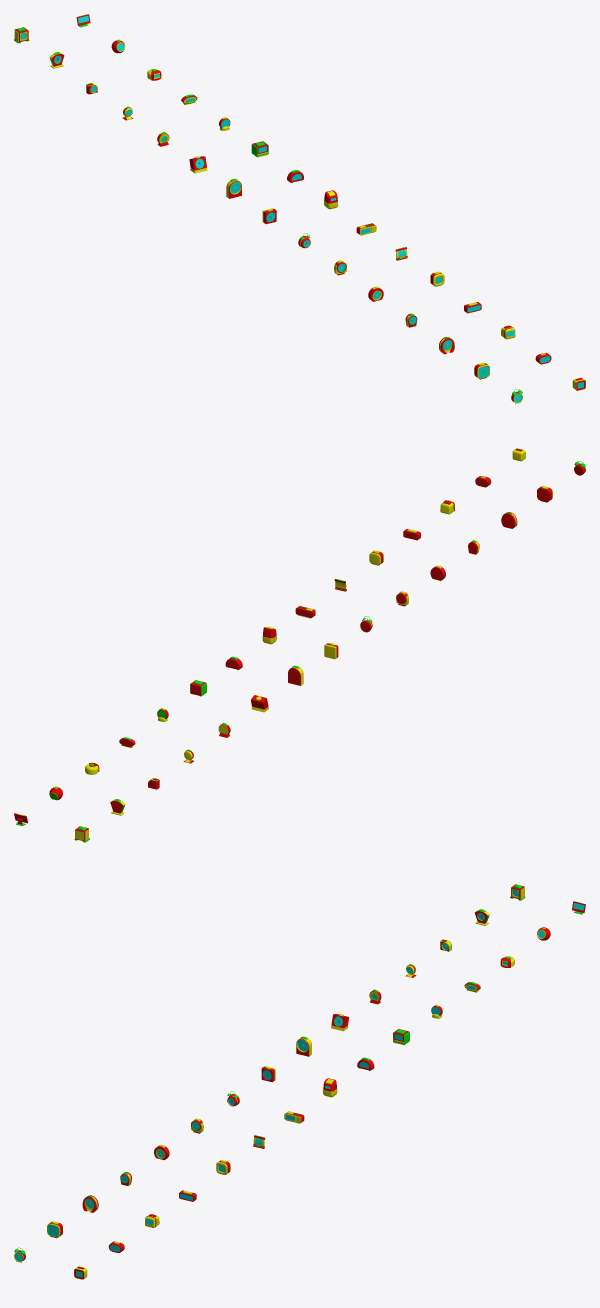
File: alarm_clocks_grp.fbx
3 views of the same model, one above another, from view 1: azimuth 30°, elevation 25°; view 2: azimuth 150°, elevation 25°; view 3: azimuth 330°, elevation 25° (orthographic).
Bounding box in the file's own units: 125 × 51.35 × 1412.
